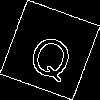Q: (24, 25, 79, 85)
